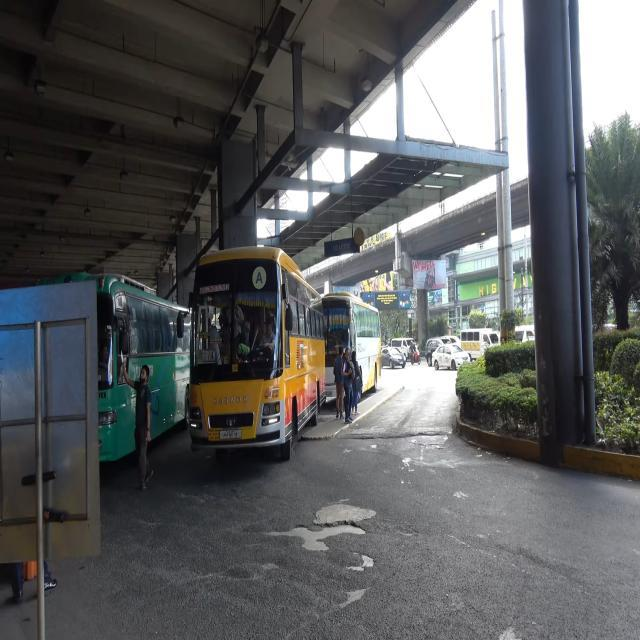bus: (184, 243, 329, 461), (41, 268, 192, 464), (319, 288, 382, 410)
car: (431, 342, 470, 370), (382, 346, 406, 370)
motorcycle: (408, 340, 421, 366)
